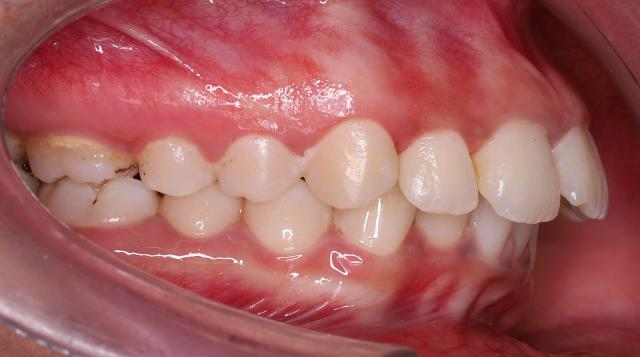canine class II 1/4: (242, 112, 416, 264)
molar class III 1/2: (19, 110, 161, 244)
